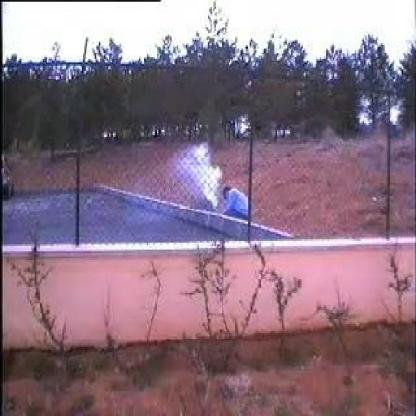-: (173, 143, 225, 211)
